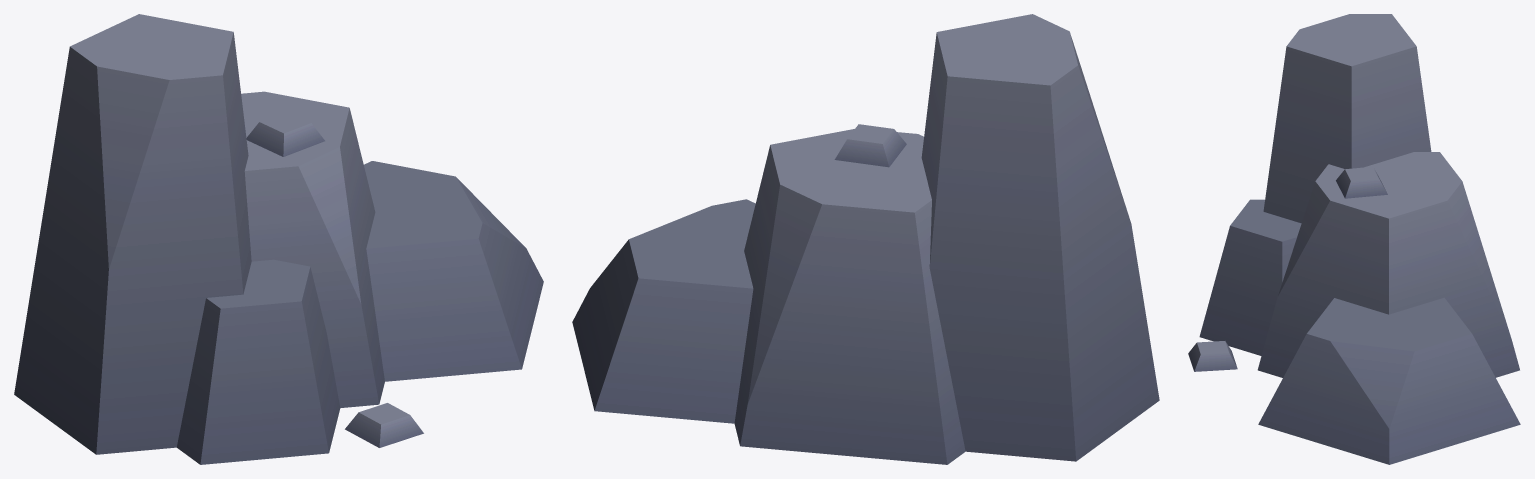
The model's file is rock-c.glb.
3 renders of one model, left to right at view 1: azimuth 30°, elevation 25°; view 2: azimuth 150°, elevation 25°; view 3: azimuth 270°, elevation 25°, orthographic. The views are drawn at different scales.
Parts seen in each view (by area): view 1: rock-c; view 2: rock-c; view 3: rock-c.
Boxes of the visible parts, x1,y1,x2,y2 form: rock-c: [14, 14, 543, 464]; rock-c: [572, 14, 1159, 464]; rock-c: [1188, 14, 1520, 464].
Size of the model in its own units: 0.7837 by 0.51 by 0.5659.
Materials: 1 (1 with a texture image).
